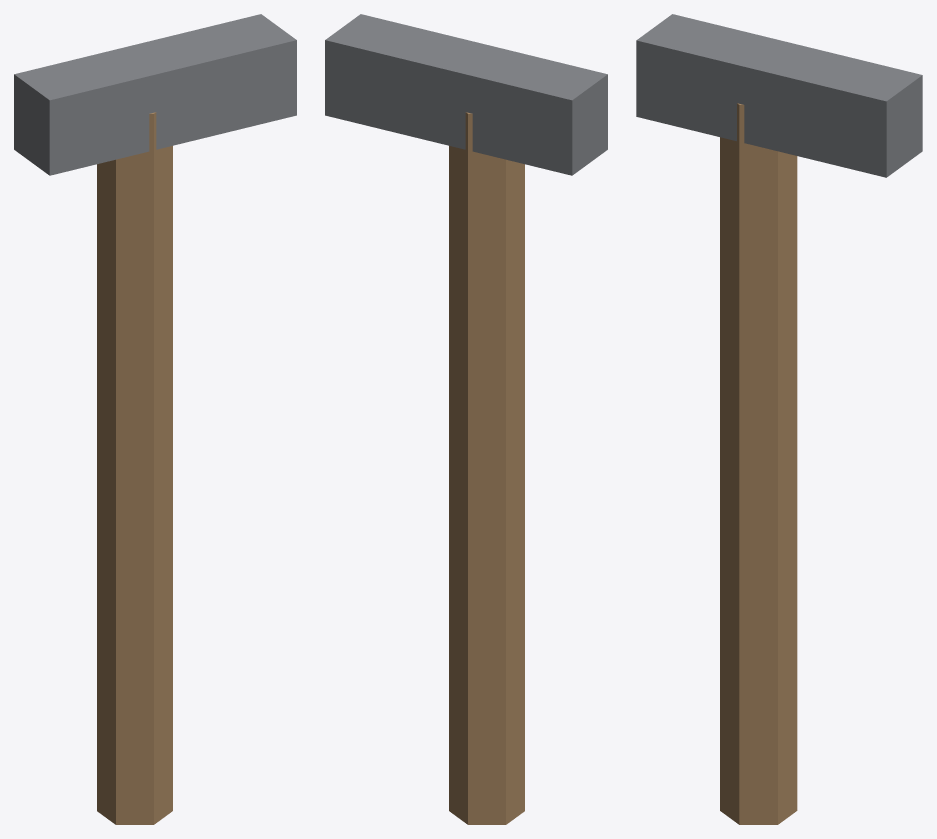
File: martelo.glb
3 views of the same model, side by side, from view 1: azimuth 30°, elevation 25°; view 2: azimuth 150°, elevation 25°; view 3: azimuth 330°, elevation 25° (orthographic).
Visible parts, largest first — view 1: martelo; view 2: martelo; view 3: martelo.
Boxes of the visible parts, x1,y1,x2,y2 form: martelo: (14,14,296,824); martelo: (325,14,607,824); martelo: (636,14,922,824).
Size of the model in its own units: 0.12 by 0.3475 by 0.032.
